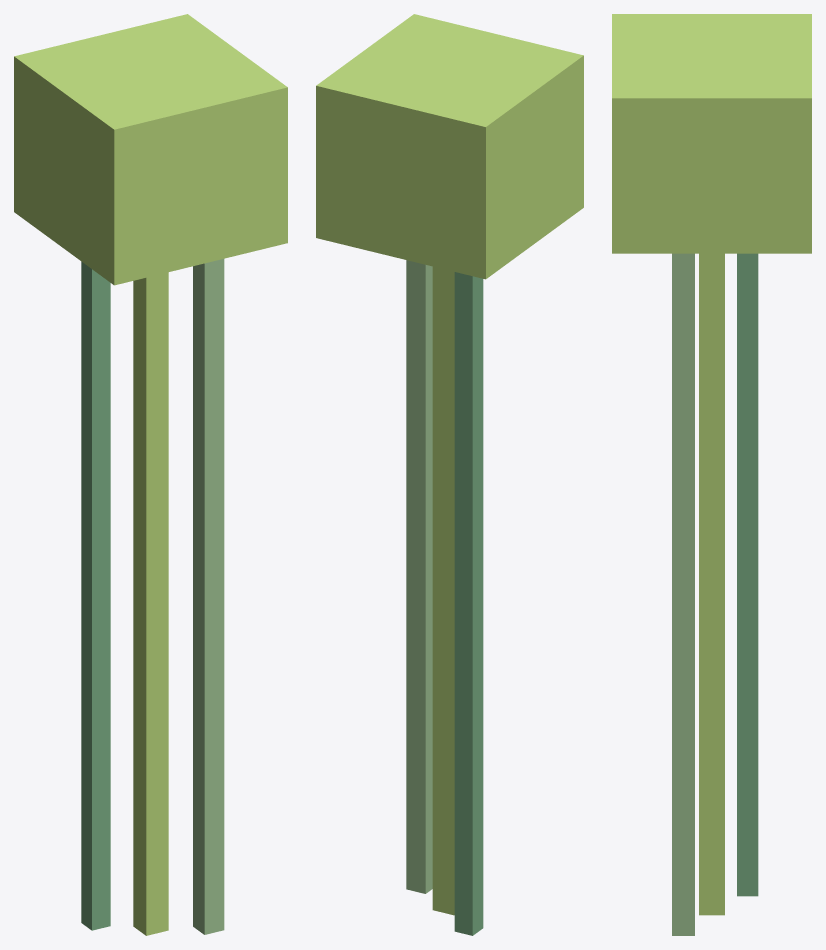
The model's file is prop-bamboo-cluster.glb.
3 renders of one model, left to right at view 1: azimuth 30°, elevation 25°; view 2: azimuth 150°, elevation 25°; view 3: azimuth 270°, elevation 25°, orthographic. The views are drawn at different scales.
Parts seen in each view (by area): view 1: prop-bamboo-cluster; view 2: prop-bamboo-cluster; view 3: prop-bamboo-cluster.
Boxes of the visible parts, x1=… form: prop-bamboo-cluster: x1=14, y1=14, x2=287, y2=935; prop-bamboo-cluster: x1=316, y1=14, x2=583, y2=935; prop-bamboo-cluster: x1=612, y1=14, x2=811, y2=935.
Bounding box in the file's own units: 1.4 × 6.6 × 1.4.
